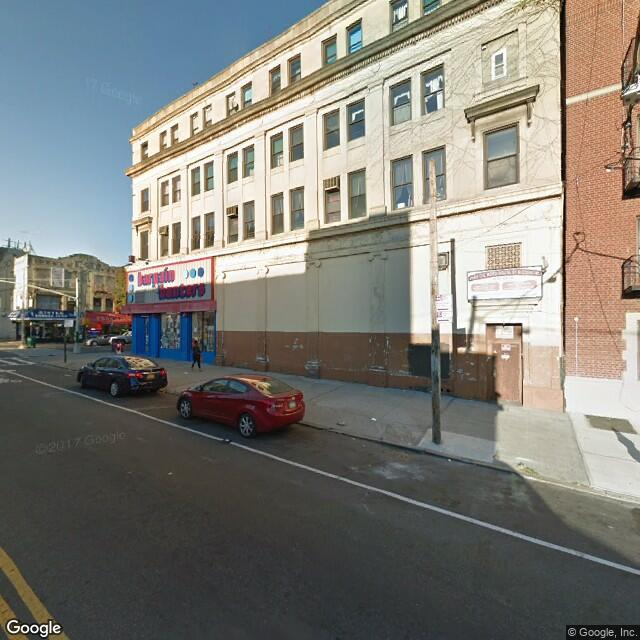litter: (61, 370, 73, 379), (335, 418, 348, 426), (370, 414, 381, 423), (181, 369, 189, 377), (444, 457, 453, 463), (166, 467, 172, 475)
